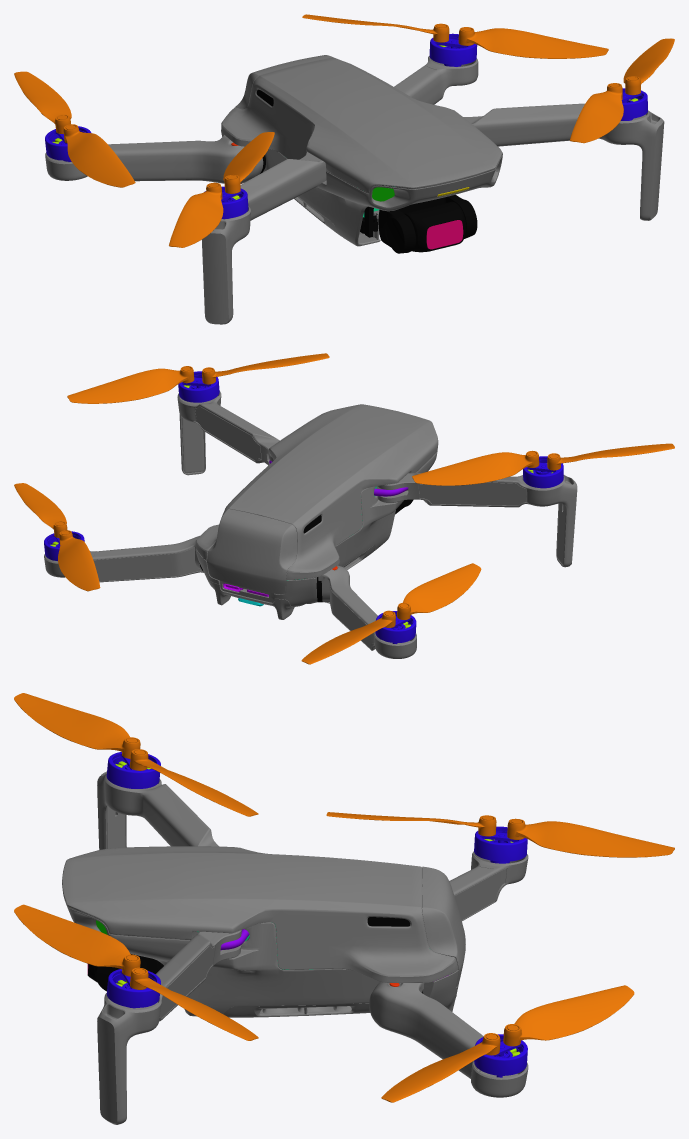
File: DJI_Mavic_Mini_2.glb
3 views of the same model, one above another, from view 1: azimuth 30°, elevation 25°; view 2: azimuth 150°, elevation 25°; view 3: azimuth 270°, elevation 25° (orthographic). The views are drawn at different scales.
Visible parts, largest first — view 1: Body, Front Left arm, Front Right arm, Rear Right arm, dji_mini_2_open.027, dji_mini_2_open.043, Rear Left arm, Camera gimbal, dji_mini_2_open.015, dji_mini_2_open.016, dji_mini_2_open.042, Camera.001 (+8 smaller); view 2: Body, Front Right arm, Front Left arm, Rear Left arm, Rear Right arm, dji_mini_2_open.019, dji_mini_2_open.017, dji_mini_2_open.043, dji_mini_2_open.079, dji_mini_2_open.042, dji_mini_2_open.027, dji_mini_2_open.015 (+4 smaller); view 3: Body, Front Left arm, Rear Left arm, Front Right arm, dji_mini_2_open.079, dji_mini_2_open.042, dji_mini_2_open.016, dji_mini_2_open.015, Rear Right arm, dji_mini_2_open.027, dji_mini_2_open.017, dji_mini_2_open.019 (+6 smaller).
Boxes of the visible parts, x1,y1,x2,y2 form: Body: [221, 55, 502, 246]; Front Left arm: [463, 103, 664, 220]; Front Right arm: [202, 151, 326, 324]; Rear Right arm: [45, 135, 263, 184]; dji_mini_2_open.027: [458, 27, 608, 58]; dji_mini_2_open.043: [63, 124, 135, 187]; Rear Left arm: [394, 45, 478, 104]; Camera gimbal: [378, 194, 477, 253]; dji_mini_2_open.015: [169, 182, 223, 247]; dji_mini_2_open.016: [569, 83, 623, 143]; dji_mini_2_open.042: [14, 71, 71, 133]; Camera.001: [404, 201, 466, 252]; Body: [195, 404, 438, 619]; Front Right arm: [374, 472, 577, 567]; Front Left arm: [177, 391, 279, 475]; Rear Left arm: [44, 536, 203, 582]; Rear Right arm: [318, 565, 416, 658]; dji_mini_2_open.019: [412, 450, 539, 485]; dji_mini_2_open.017: [67, 366, 194, 403]; dji_mini_2_open.043: [397, 563, 481, 619]; dji_mini_2_open.079: [58, 530, 100, 591]; dji_mini_2_open.042: [301, 610, 395, 664]; dji_mini_2_open.027: [14, 483, 67, 537]; dji_mini_2_open.015: [547, 443, 674, 470]; Body: [62, 846, 465, 1017]; Front Left arm: [97, 929, 249, 1124]; Rear Left arm: [369, 982, 528, 1097]; Front Right arm: [97, 771, 219, 849]; dji_mini_2_open.079: [503, 985, 634, 1046]; dji_mini_2_open.042: [507, 818, 674, 857]; dji_mini_2_open.016: [14, 904, 140, 976]; dji_mini_2_open.015: [14, 693, 140, 758]; Rear Right arm: [449, 838, 528, 920]; dji_mini_2_open.027: [381, 1033, 500, 1102]; dji_mini_2_open.017: [130, 967, 258, 1040]; dji_mini_2_open.019: [129, 749, 258, 816].
Size of the model in its own units: 0.266 by 0.0569 by 0.2238.
